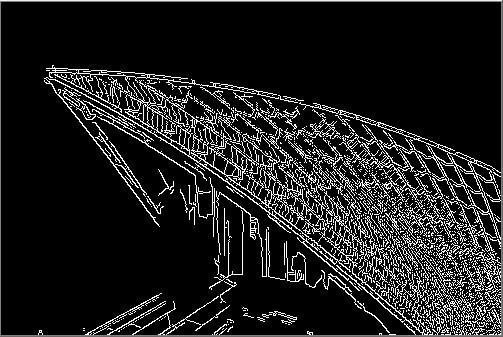opera house: (30, 41, 503, 333)
